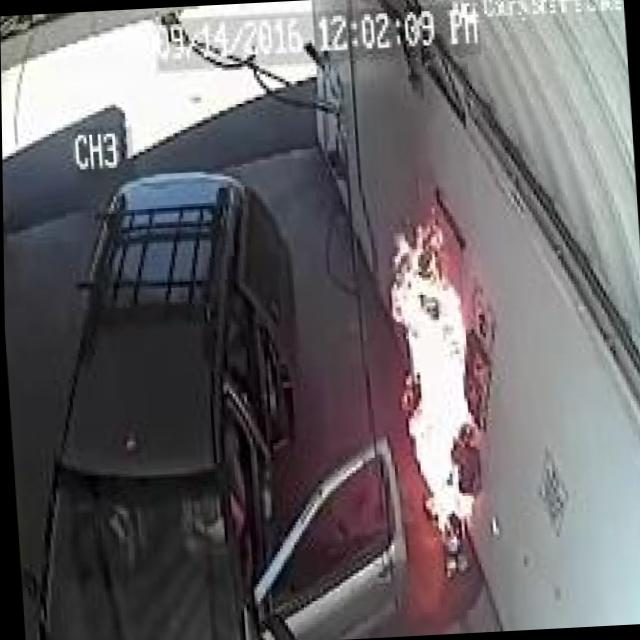fire: (374, 212, 495, 540)
